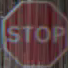Stop: (2, 3, 63, 57)
